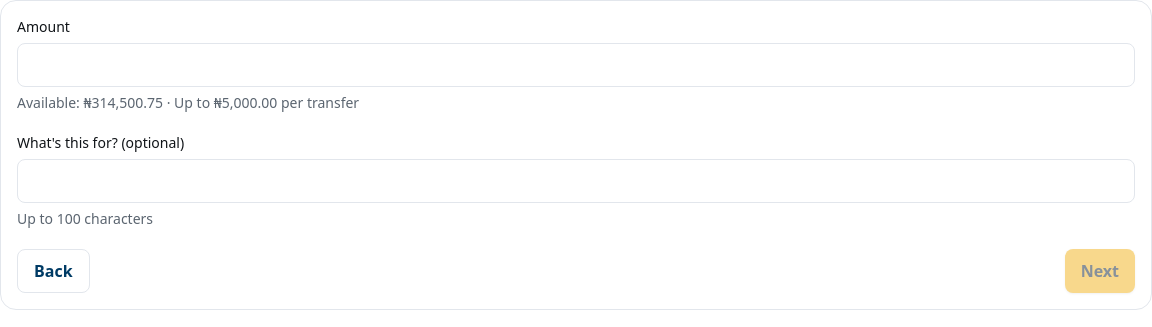
Scenario: AmountStep › strips letters and symbols and groups the integer part with commas as it is typed
This screenshot has width=1152, height=327.
Type "50a00b0" into the field labelled "Amount" at (576, 65), box [17, 43, 1135, 87]
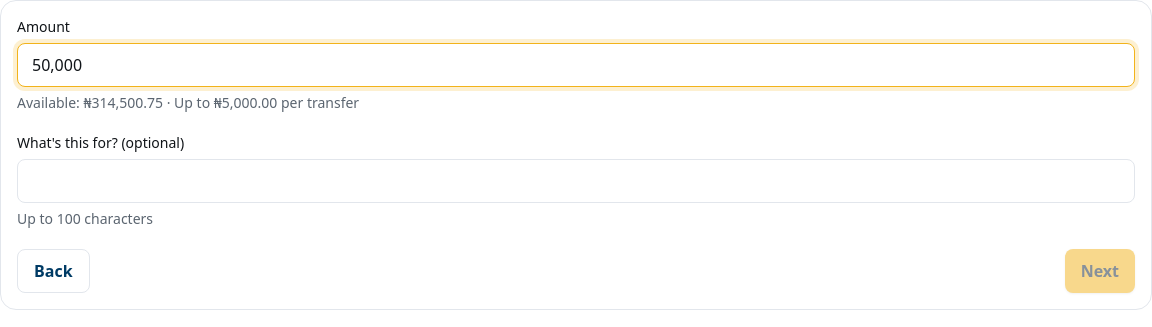
Expected: the field labelled "Amount" holds "50,000", [17, 43, 1135, 87]
